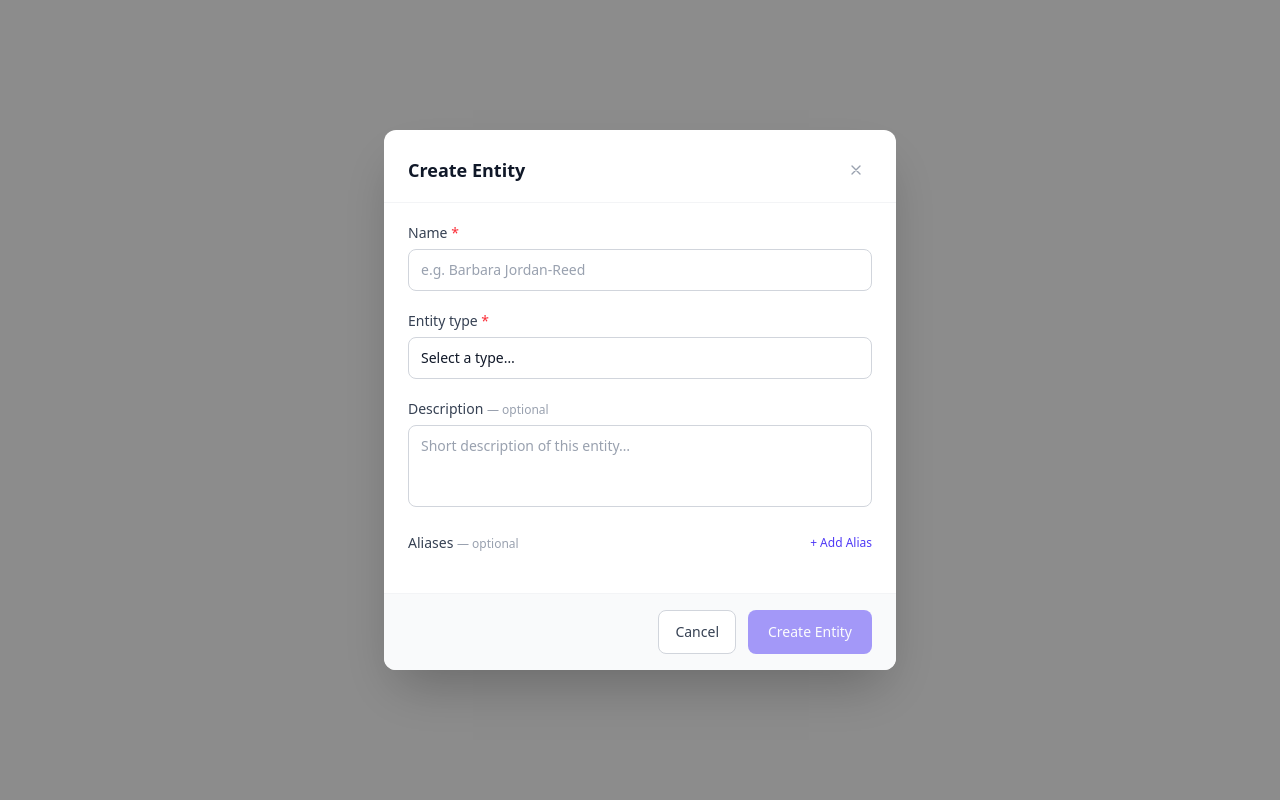
Test: CreateEntityModal — Wikidata grounding (Feature 067, US3) › Auto-search › shows the grounding section once a name is filled, before any type is chosen (Feature 098)
This screenshot has width=1280, height=800.
Expected: the text "ground in wikidata" is not shown
Type "Test Person" into the dropdown labelled "Name *". click: (640, 270)
box: [408, 249, 872, 291]
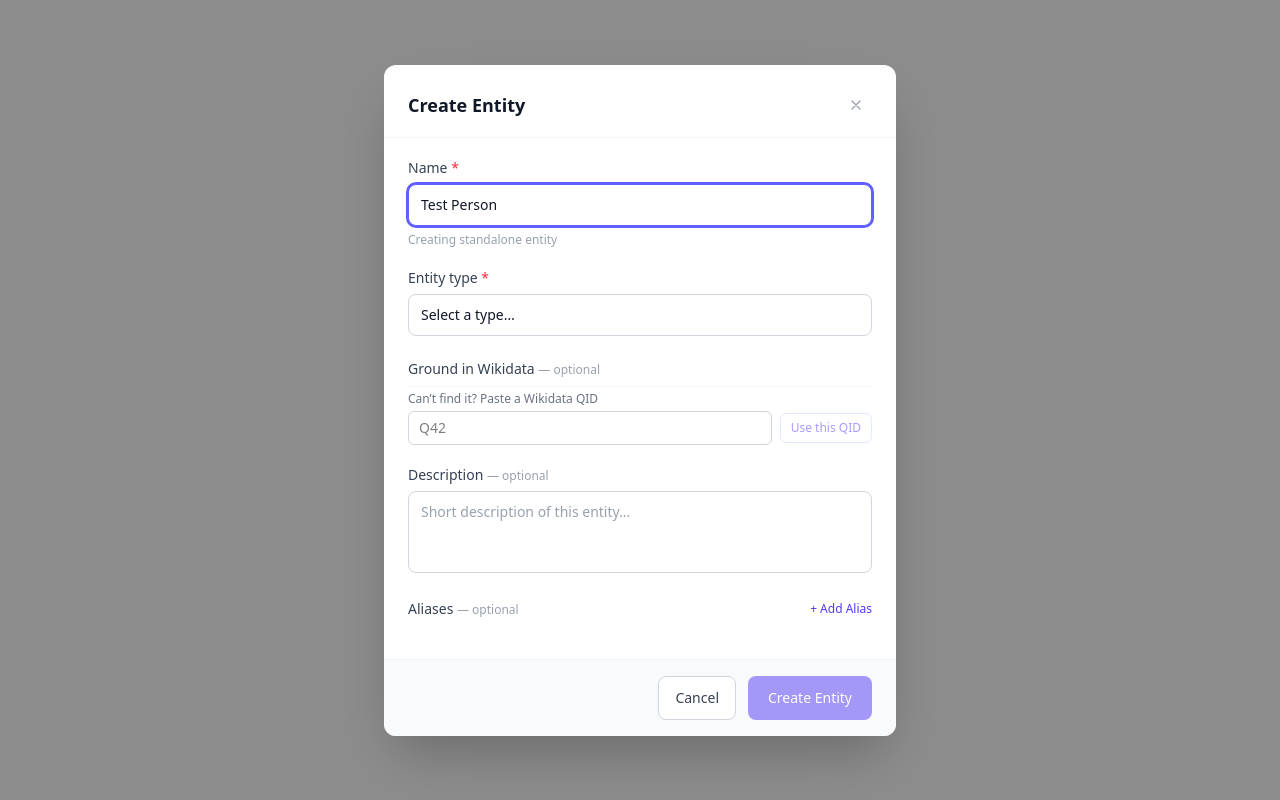
Now the text "Ground in Wikidata — optional" is shown, box [408, 358, 600, 378]
